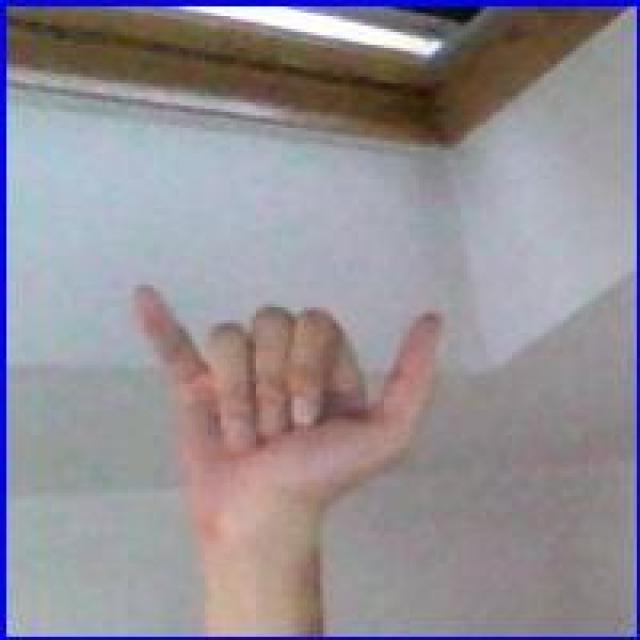Y: (127, 270, 450, 517)
